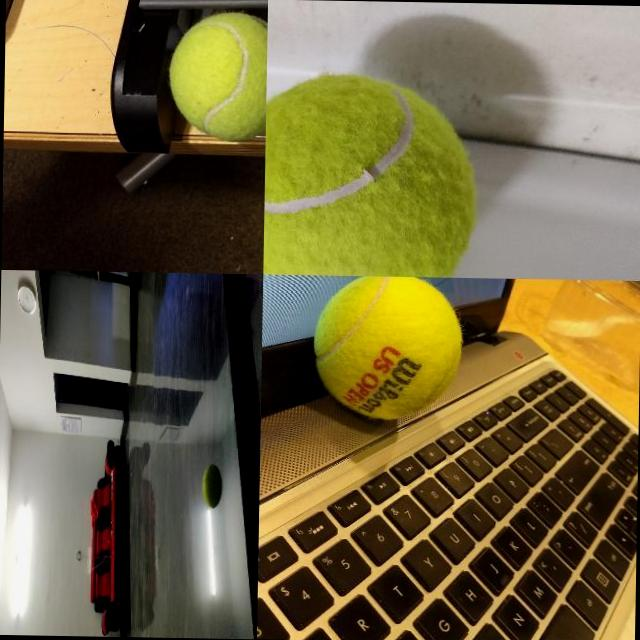Tennis Ball: (262, 67, 482, 277), (310, 274, 464, 422), (167, 9, 266, 142), (202, 462, 222, 507)
